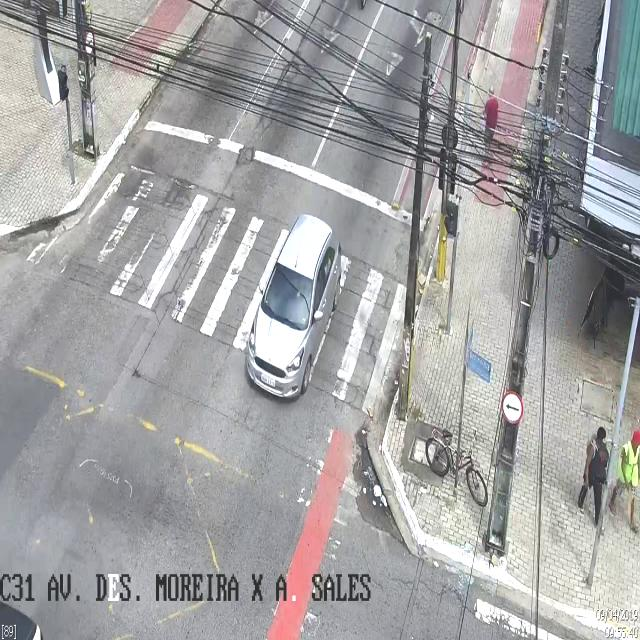Car: (246, 213, 338, 403)
